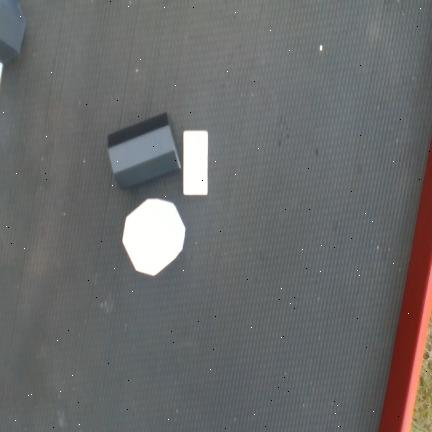Paralelepipedo: (183, 130, 208, 196)
Prisma_hexagonal: (108, 112, 182, 188), (122, 198, 186, 276), (0, 0, 26, 63)
